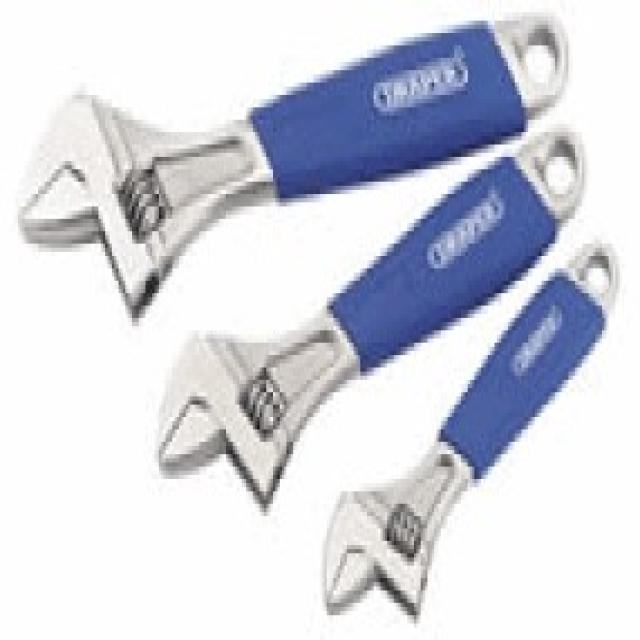wrench: (12, 27, 608, 297), (319, 346, 640, 640)
